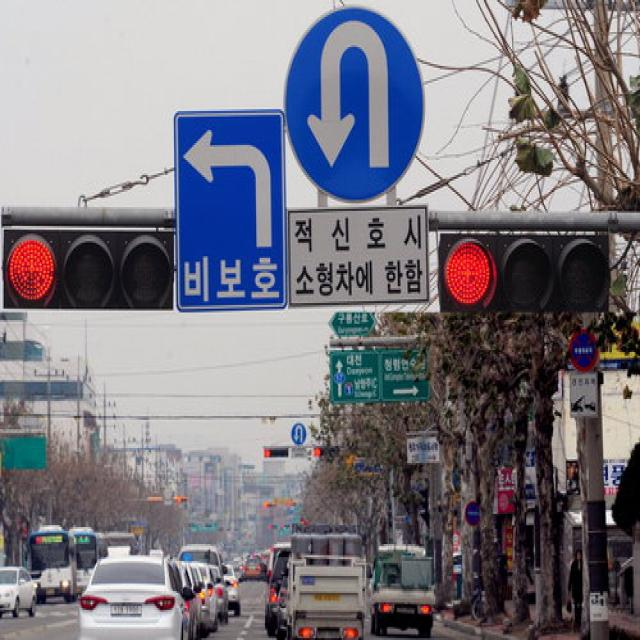Red Light: (4, 228, 57, 311), (443, 238, 499, 316), (313, 445, 323, 458), (263, 446, 272, 458)
